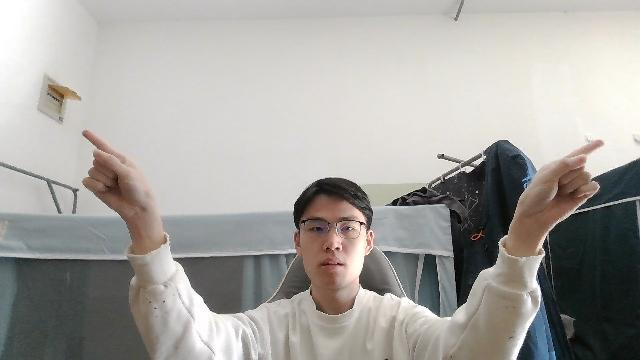one: (507, 132, 603, 244), (79, 128, 161, 239)
